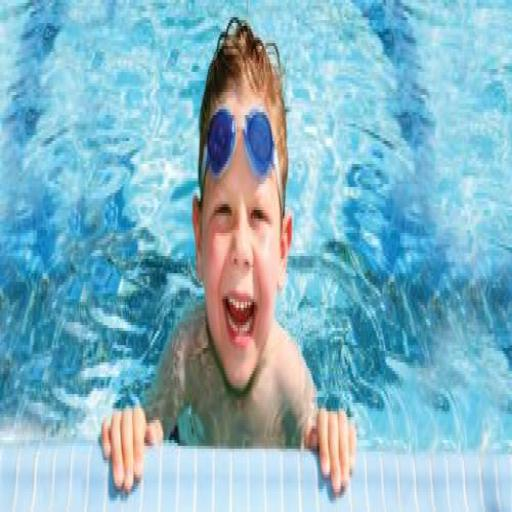swimming: (98, 14, 358, 500)
